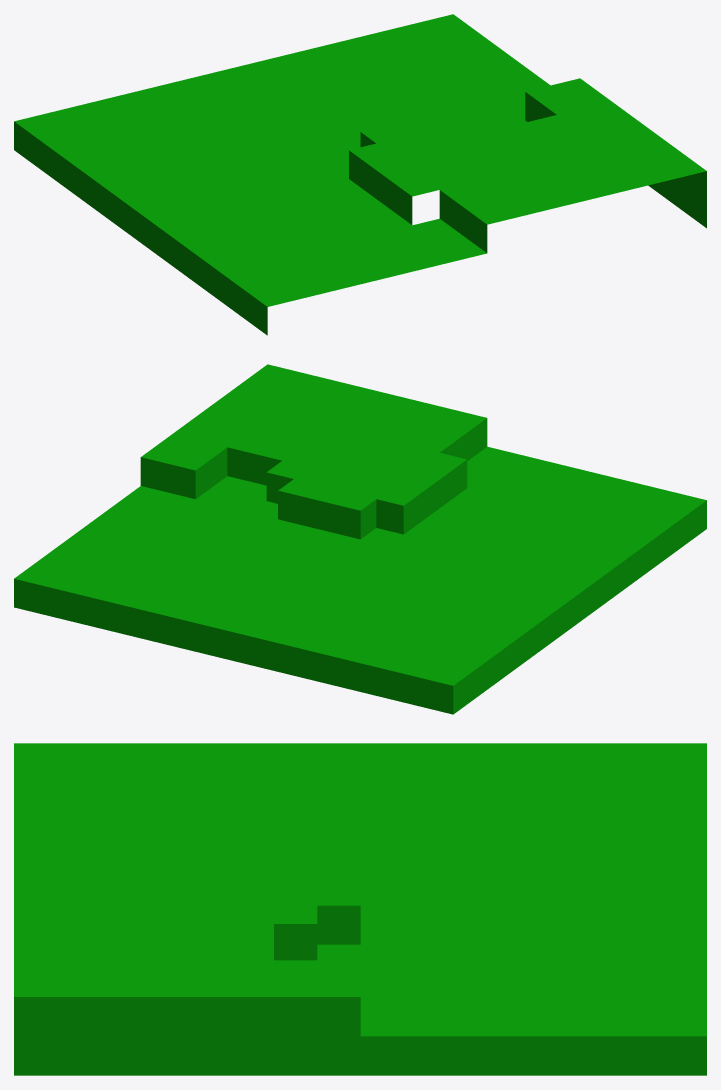
The model's file is Corner5.fbx.
3 renders of one model, top to bottom at view 1: azimuth 30°, elevation 25°; view 2: azimuth 150°, elevation 25°; view 3: azimuth 270°, elevation 25°, orthographic. The views are drawn at different scales.
Parts seen in each view (by area): view 1: Matrix; view 2: Matrix; view 3: Matrix.
Part boxes in pixels (x1,y1,x2,y2): Matrix: (14, 14, 706, 335); Matrix: (14, 364, 706, 714); Matrix: (14, 743, 706, 1075).
Bounding box in the file's own units: 16 × 2 × 16.
1 material, 1 textured.
